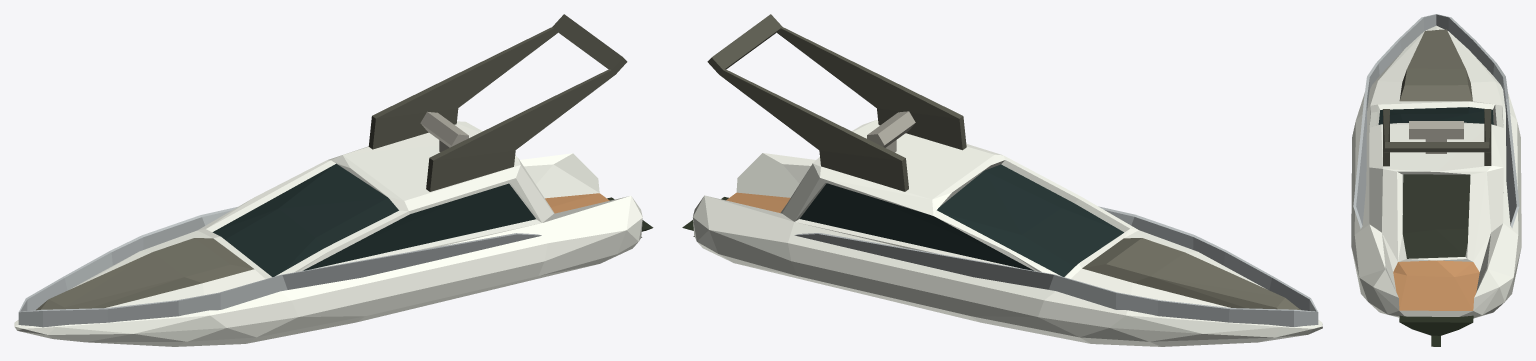
Rendered from Yacht_B.fbx.
3 views of the same model, side by side, from view 1: azimuth 30°, elevation 25°; view 2: azimuth 150°, elevation 25°; view 3: azimuth 270°, elevation 25° (orthographic). The views are drawn at different scales.
Visible parts, largest first — view 1: Yacht_B; view 2: Yacht_B; view 3: Yacht_B.
Boxes of the visible parts, left/top/right/bottom form: Yacht_B: left=14, top=14, right=653, bottom=346; Yacht_B: left=682, top=14, right=1322, bottom=346; Yacht_B: left=1351, top=14, right=1521, bottom=346.
Bounding box in the file's own units: 692 × 222 × 185.
